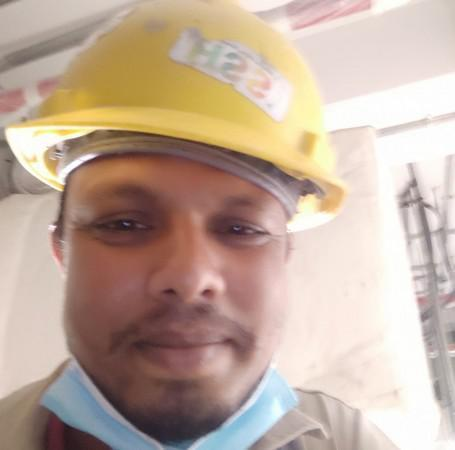helmet: (5, 1, 351, 234)
